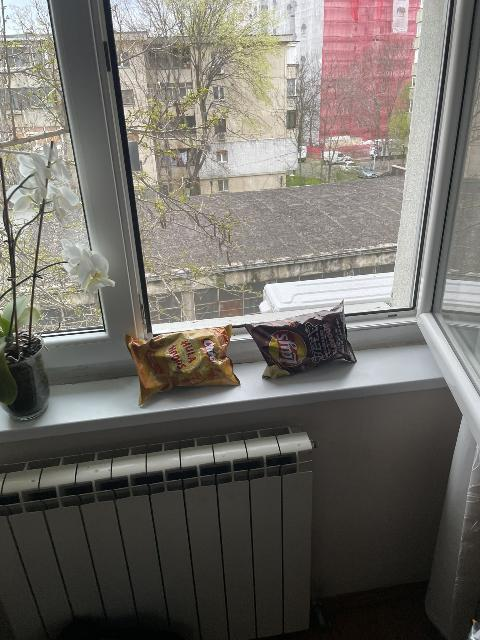Chio Hula Hoops Cheese 70g: (124, 325, 240, 405)
Lays Beef Grilled Ribs 125g: (246, 299, 352, 376)
